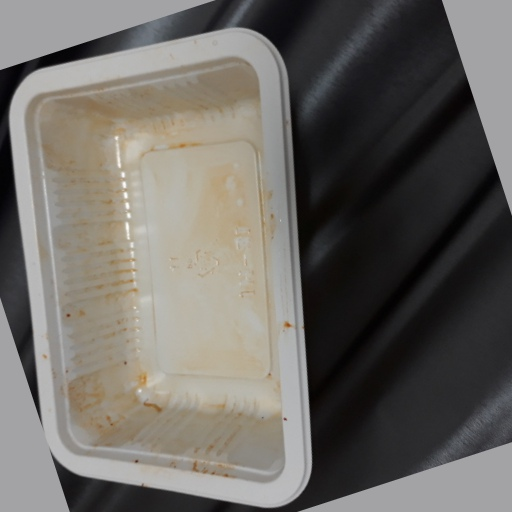Plastic_4: (10, 26, 315, 512)
